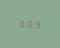nine: (33, 20, 39, 28)
zero: (26, 19, 32, 28), (18, 19, 24, 27)
